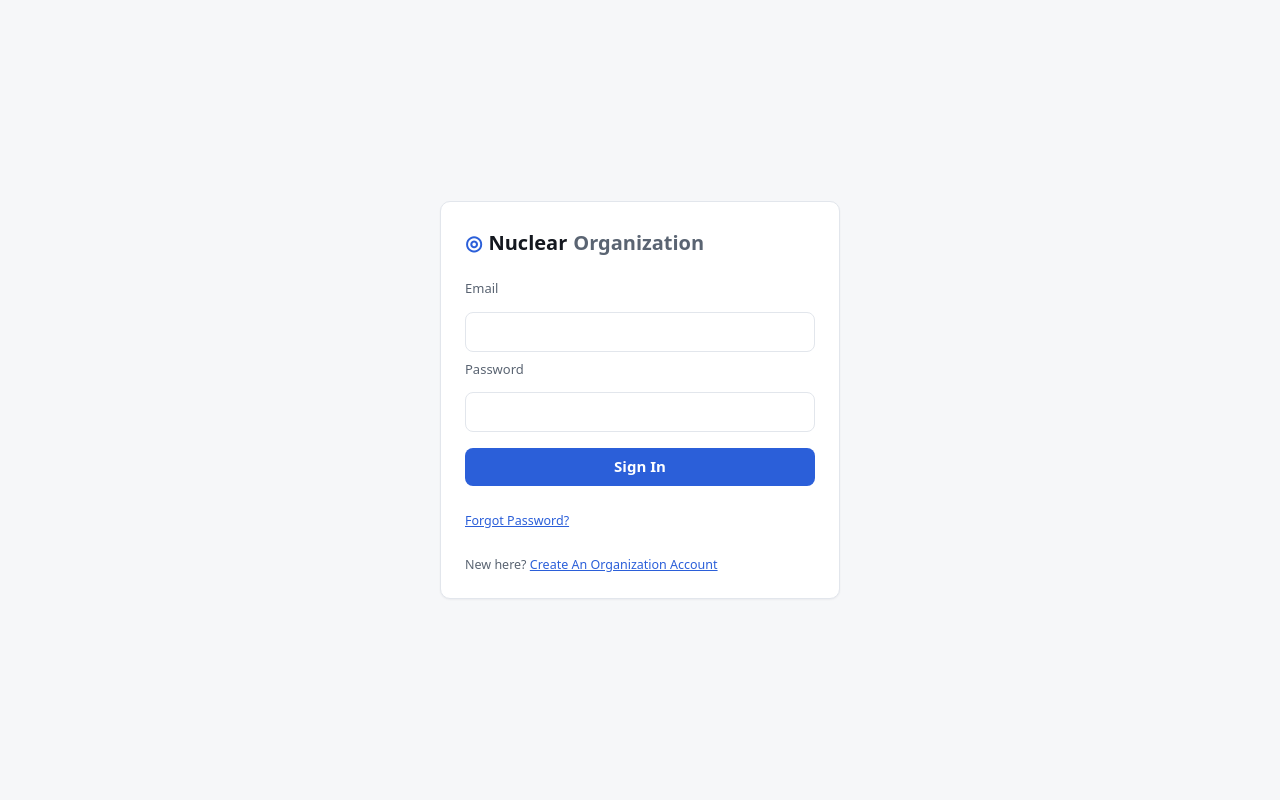
organization portal › mass edit › says nothing changed when the server refuses
The image size is (1280, 800).
Type "HR@Acme.test" into the field labelled "Email" at (640, 332), box x1=465 y1=312 x2=815 y2=352
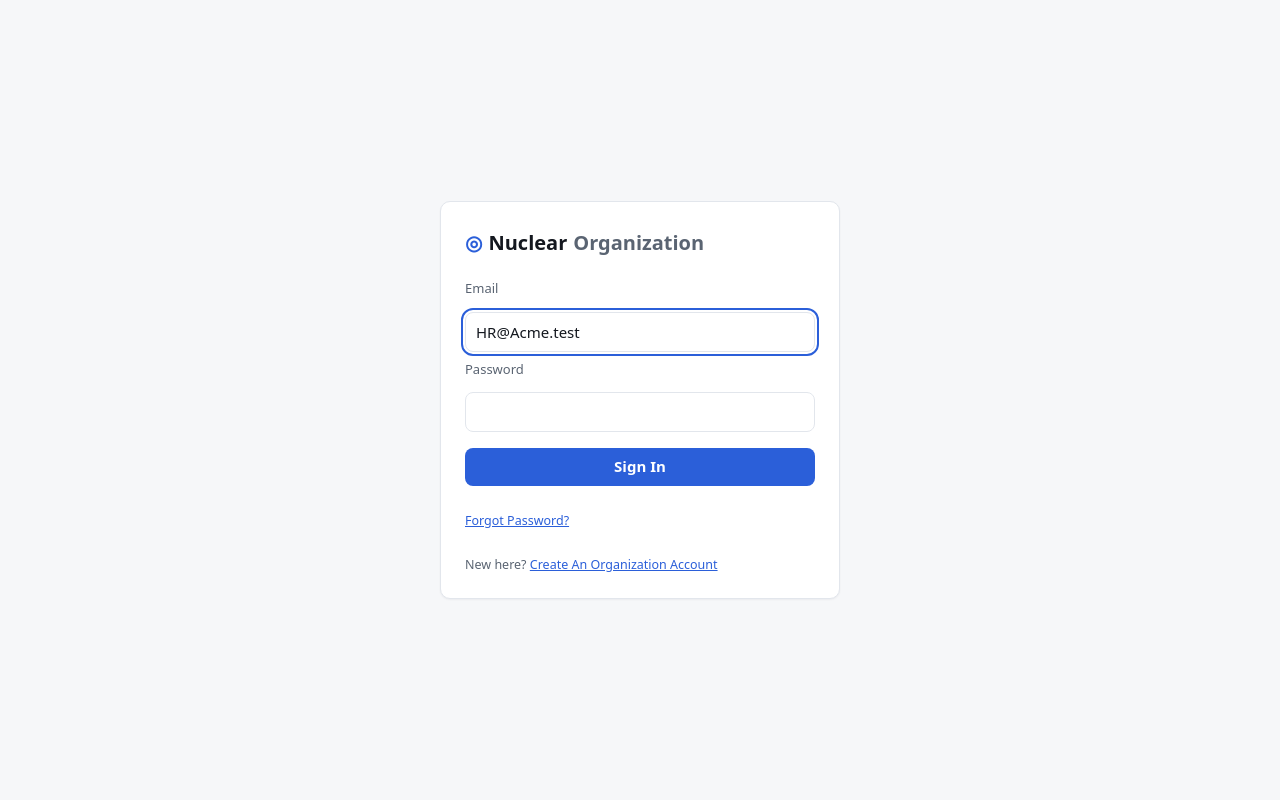
Type "correct horse battery" into the password field labelled "Password" at (640, 412), box x1=465 y1=392 x2=815 y2=432
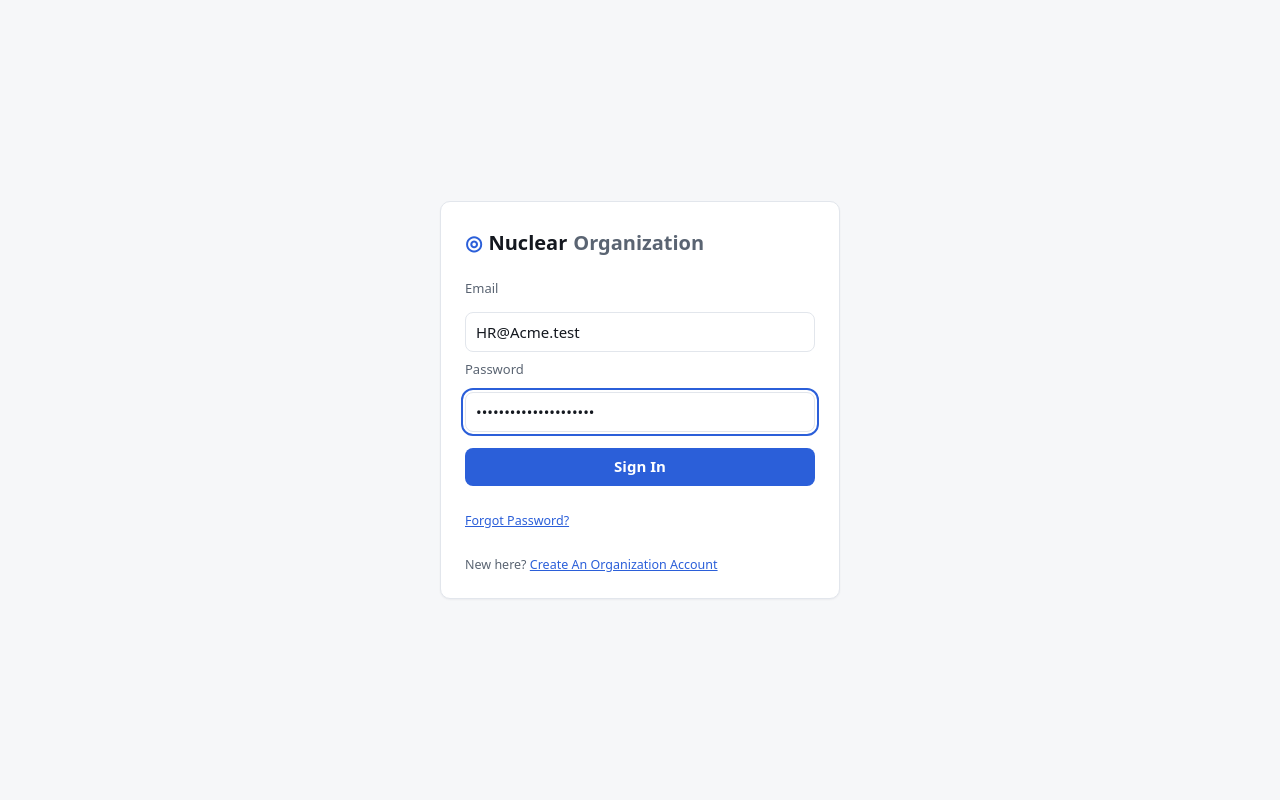
Click the button "Sign In" at (640, 467), box x1=465 y1=448 x2=815 y2=486
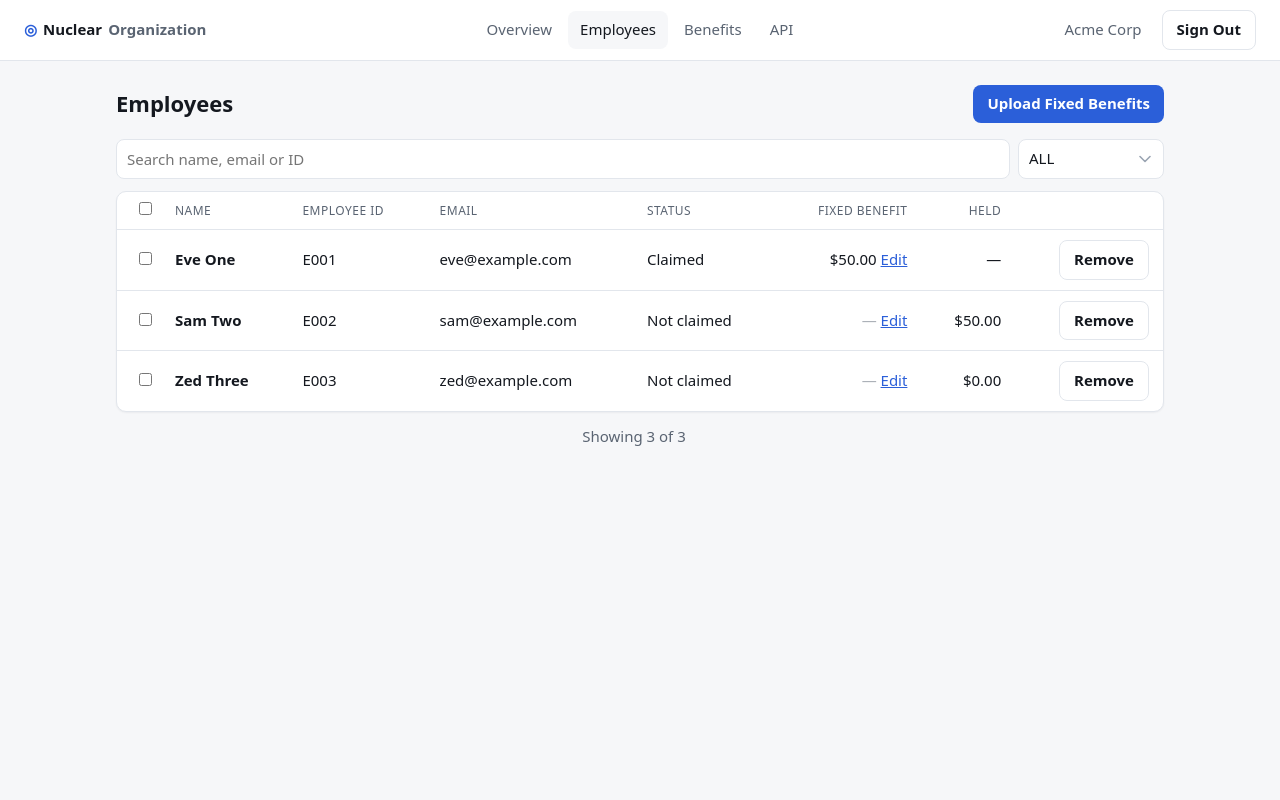
Check: the column heading "Zed Three" is shown, box x1=161 y1=351 x2=288 y2=411
Click the checkbox named "Select Zed Three" at (145, 380), box x1=138 y1=373 x2=152 y2=386
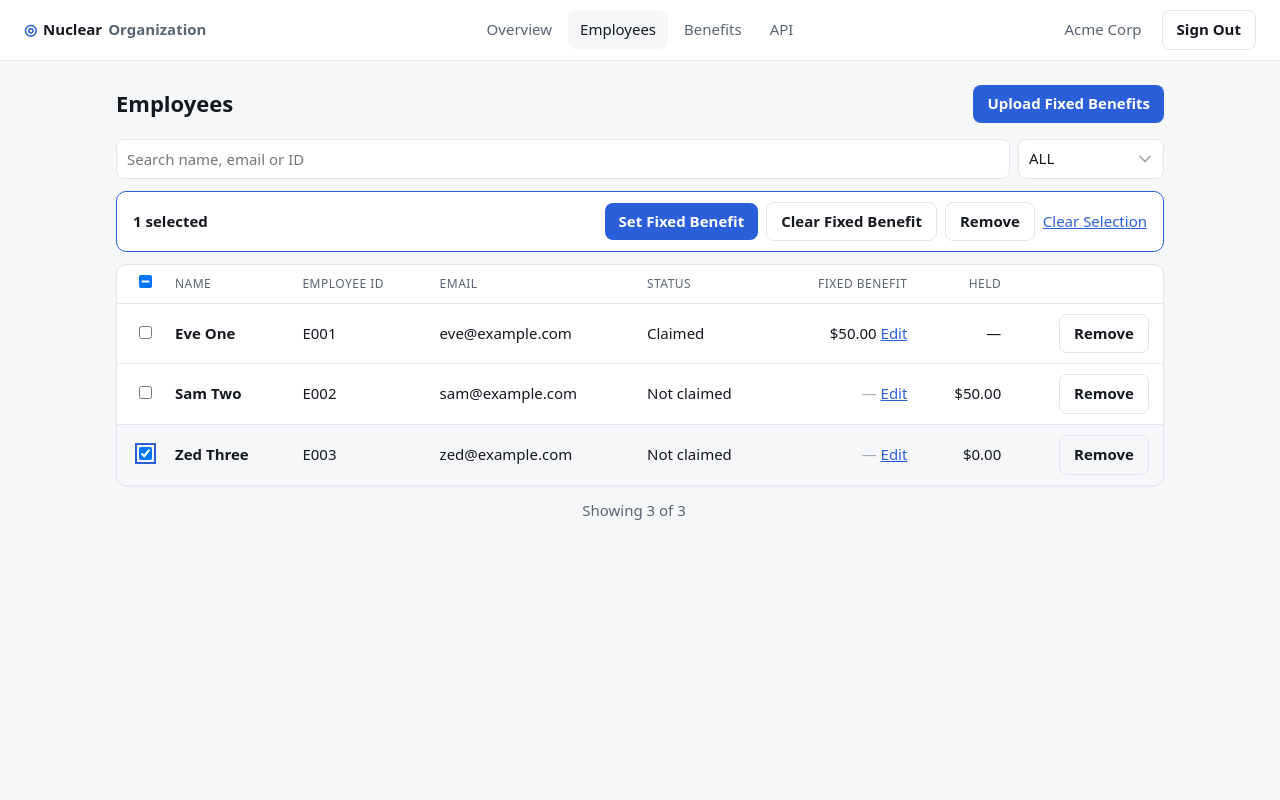
Click the button "Remove" in the row of "selected" at (990, 221), box x1=945 y1=202 x2=1035 y2=241
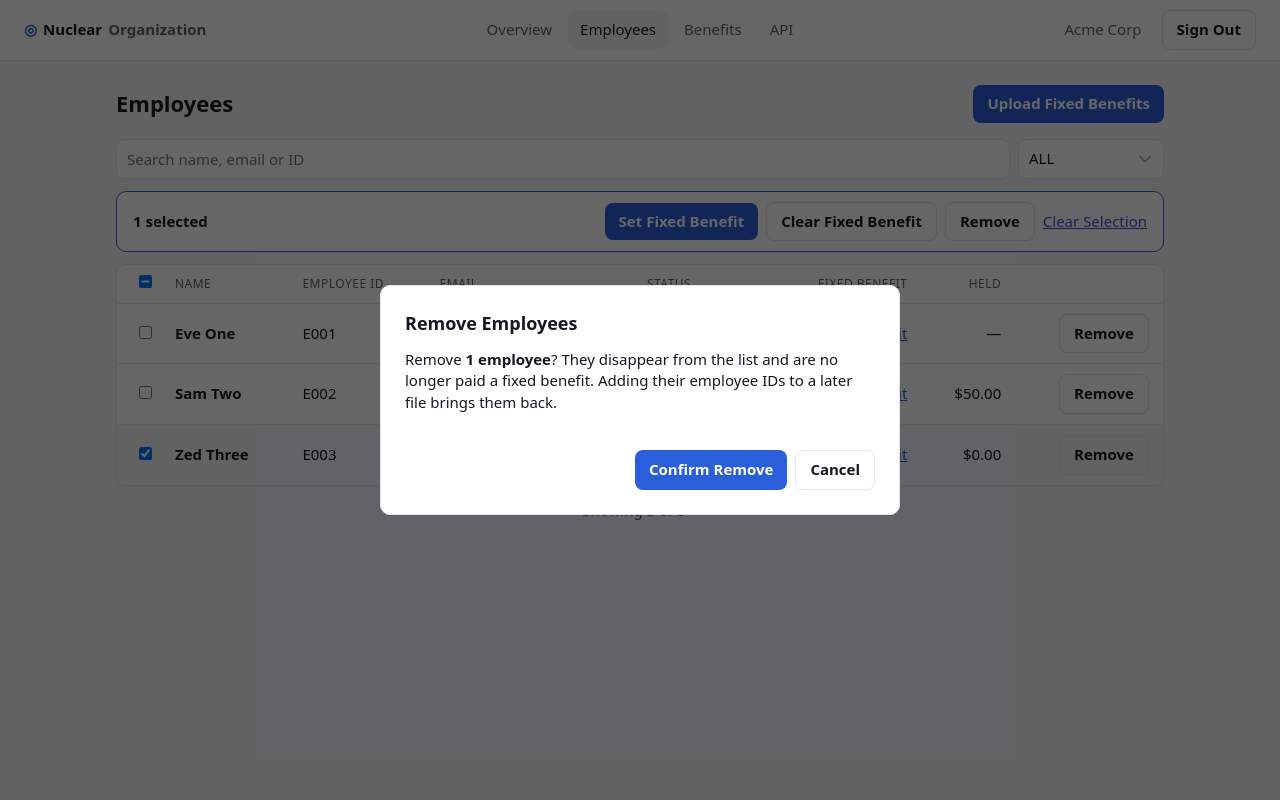
Click the button "Confirm Remove" at (711, 470), box x1=635 y1=450 x2=787 y2=490
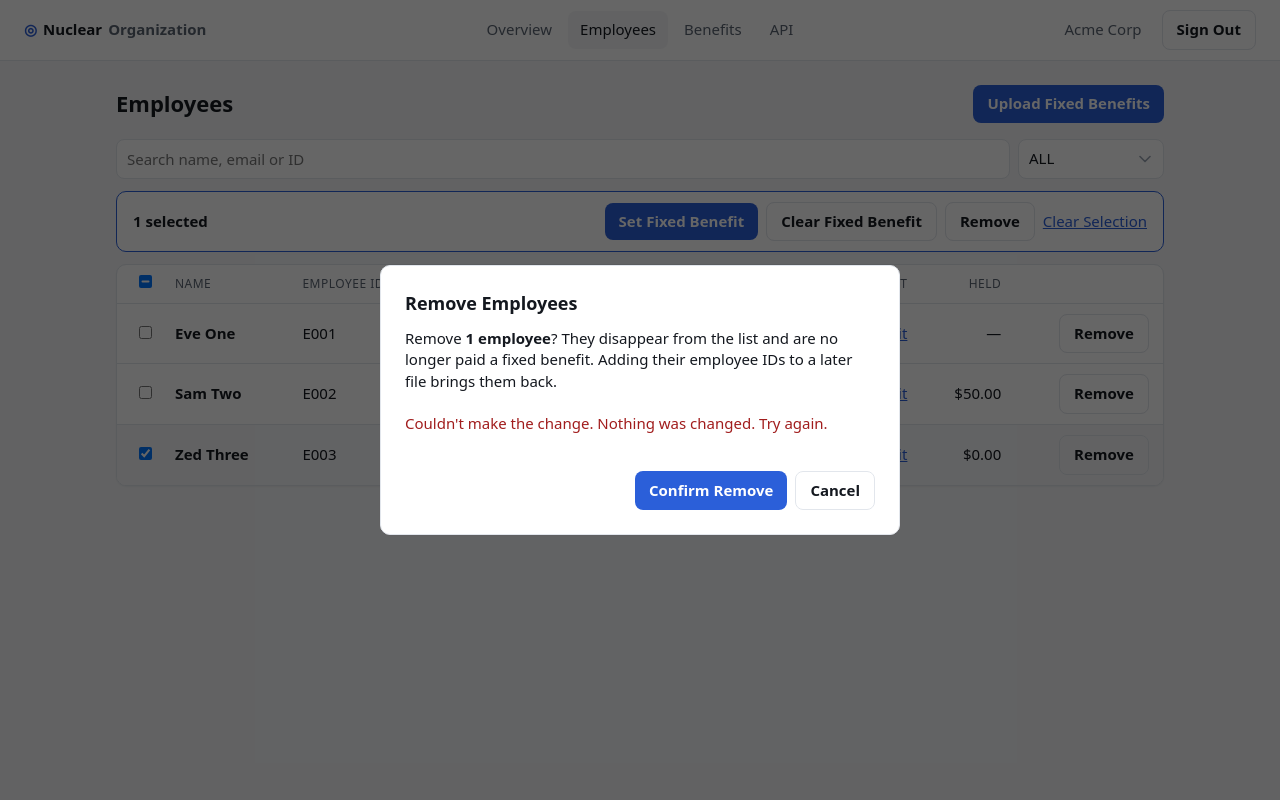
Check: the element named "Selected employees" is shown, box x1=116 y1=190 x2=1164 y2=252
Check: the text "Couldn't make the change. Nothing was changed. Try again." is shown, box x1=405 y1=413 x2=875 y2=435
